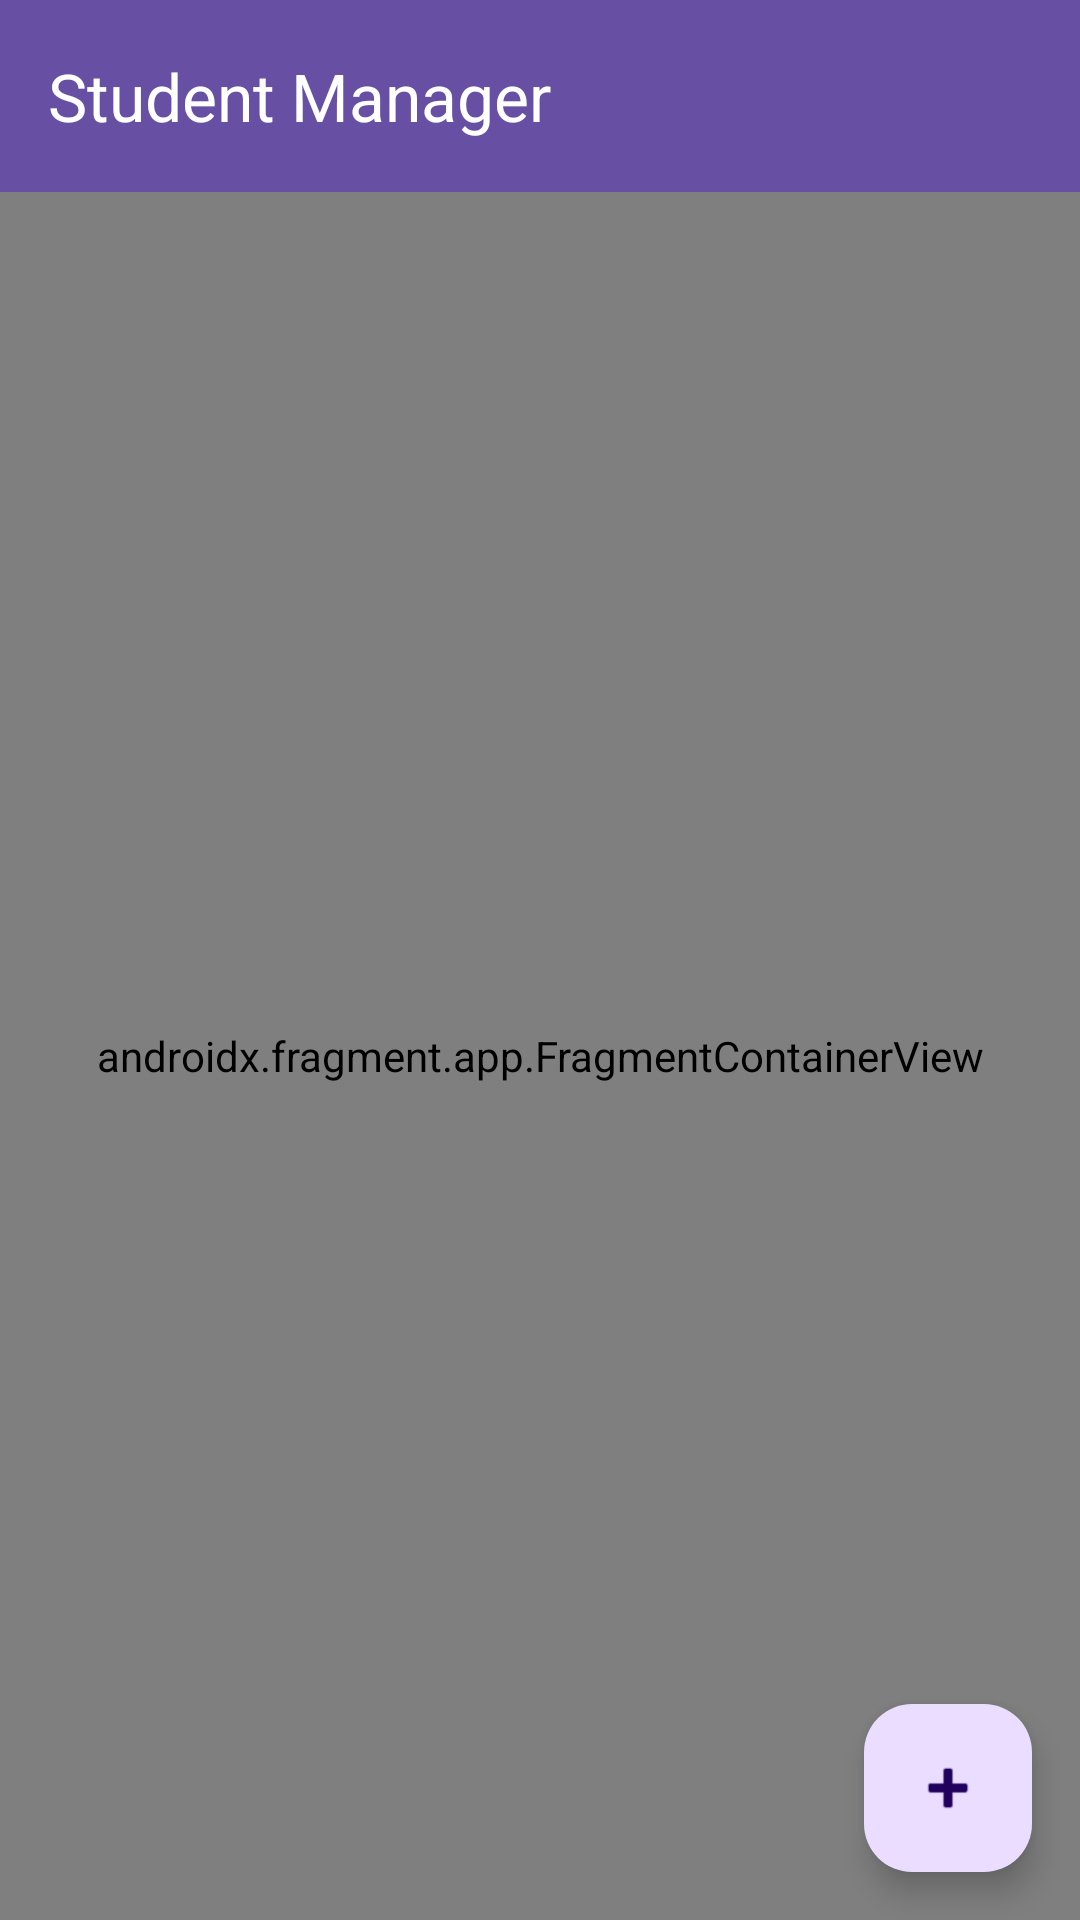

Where to tap for icons on this 1080*1920 app screen, as (x,y):
Add Student: (948,1788)
